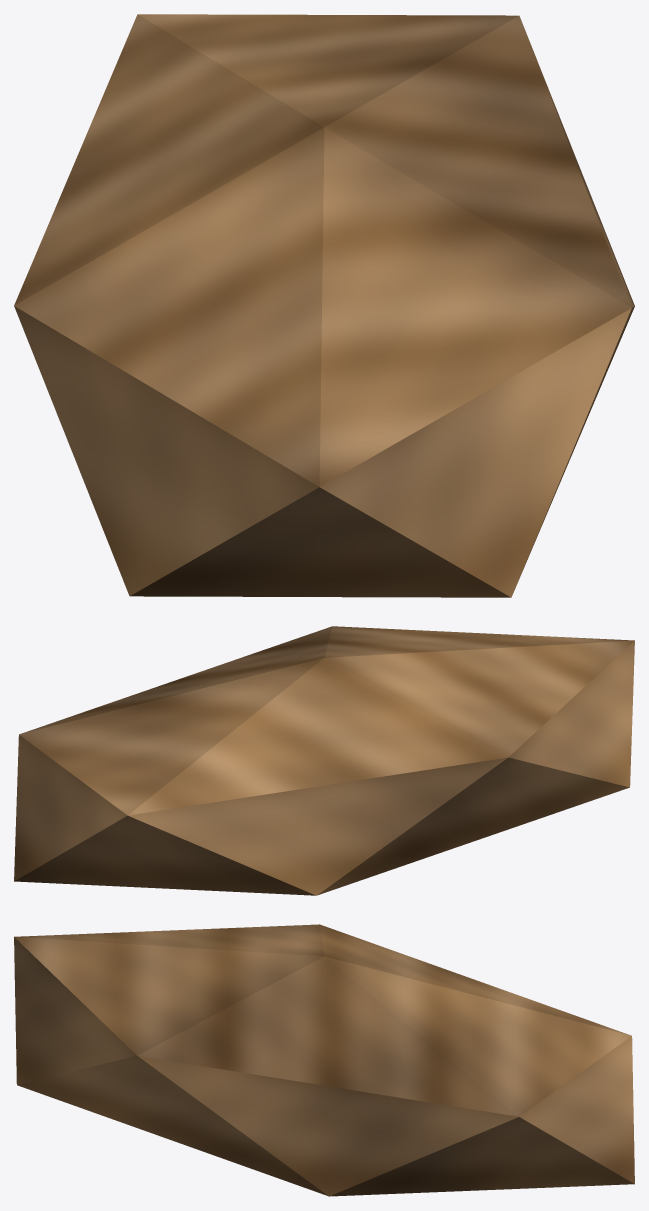
Rendered from 2006_sandstone_talus_01.dae.
The picture shows the model from 3 angles, top to bottom: view 1: azimuth 30°, elevation 25°; view 2: azimuth 150°, elevation 25°; view 3: azimuth 270°, elevation 25°; orthographic projection. The views are drawn at different scales.
Parts seen in each view (by area): view 1: Node; view 2: Node; view 3: Node.
Part boxes in pixels (x1,y1,x2,y2): Node: (14,14,634,597); Node: (14,626,634,895); Node: (14,924,634,1196).
Bounding box in the file's own units: 0.8093 × 1.03 × 0.3816.
1 material, 1 textured.
